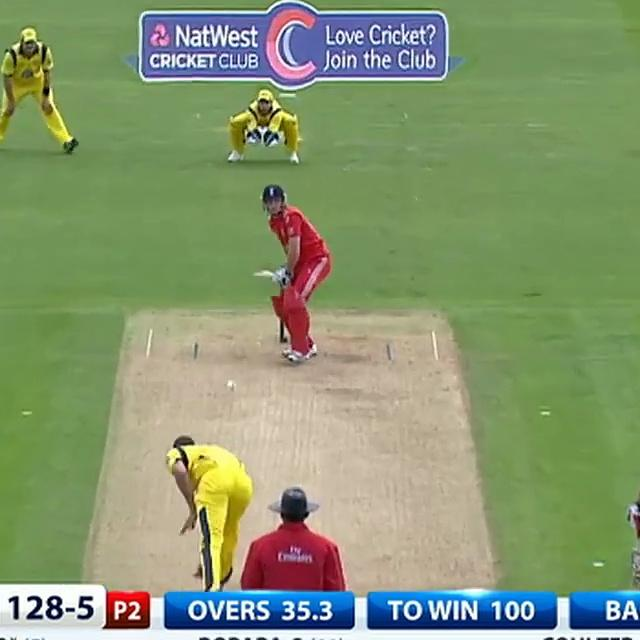umpire: (236, 481, 354, 595)
